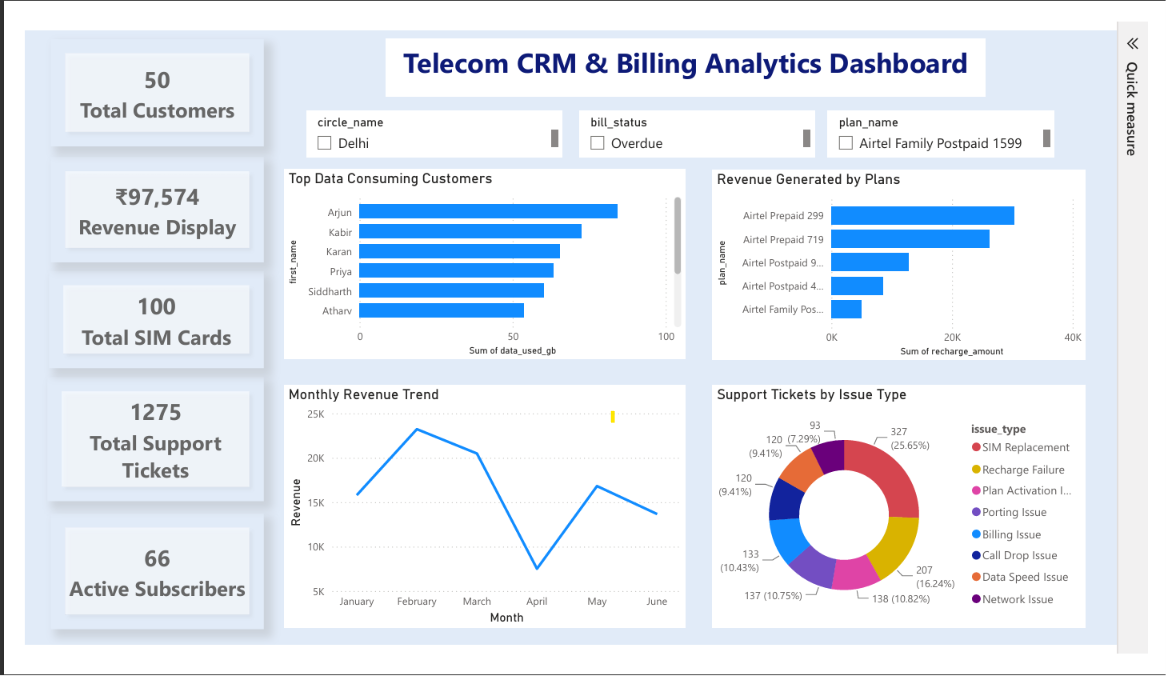

The dashboard page shown, as its layout file describes it:
{"tool":"powerbi","page":{"name":"Page 1","canvas":[1280,720],"ordinal":0},"visuals":[{"type":"textbox","box":[422.5,10,703.8,67.5],"z":0},{"type":"lineChart","title":"Monthly Revenue Trend","fields":{"Y":["Sum(bills.total_amount)"],"Category":["bills.bill_generation_date.Variation.Date Hierarchy.Month"]},"box":[304.3,415.7,470,285.7],"z":1000},{"type":"clusteredBarChart","title":"Revenue Generated by Plans","fields":{"Category":["plans.plan_name"],"Y":["Sum(recharge_history.recharge_amount)"]},"box":[805.7,164.3,437.1,222.9],"z":2000},{"type":"barChart","title":"Top Data Consuming Customers","fields":{"Category":["customers.first_name"],"Y":["Sum(usage_records.data_used_gb)"]},"box":[304.3,162.9,470,222.9],"z":3000},{"type":"donutChart","title":"Support Tickets by Issue Type","fields":{"Category":["support_tickets.issue_type"],"Y":["Sum(support_tickets.ticket_id)"]},"box":[805.7,415.7,437.1,285.7],"z":4000},{"type":"slicer","fields":{"Values":["circles.circle_name"]},"box":[330,94.3,300,54.3],"z":5000},{"type":"slicer","fields":{"Values":["plans.plan_name"]},"box":[941.4,94.3,265.7,54.3],"z":6000},{"type":"slicer","fields":{"Values":["bills.bill_status"]},"box":[650,94.3,275.7,54.3],"z":7000},{"type":"cardVisual","fields":{"Data":["CountNonNull(customers.customer_id)"]},"box":[30,10,250,126],"z":8000},{"type":"cardVisual","fields":{"Data":["bills.Revenue Display"]},"box":[30,148,250,124],"z":9000},{"type":"cardVisual","fields":{"Data":["CountNonNull(bills.sim_id)"]},"box":[28,282,252,114],"z":10000},{"type":"cardVisual","fields":{"Data":["Sum(support_tickets.ticket_id)"]},"box":[26,406,254,146],"z":11000},{"type":"cardVisual","fields":{"Data":["bills.Active Subscribers"]},"box":[30,566,250,136],"z":12000}]}

Visuals, with their boxes on the page's 1280x720 design canvas (x1, y1, x2, y2). These are canvas units, not pixel positions in the 1166x676 screenshot, which may show the page scaled, cropped or inside an application window:
textbox: rect(422, 10, 1126, 78)
"Monthly Revenue Trend" lineChart: rect(304, 416, 774, 701)
"Revenue Generated by Plans" clusteredBarChart: rect(806, 164, 1243, 387)
"Top Data Consuming Customers" barChart: rect(304, 163, 774, 386)
"Support Tickets by Issue Type" donutChart: rect(806, 416, 1243, 701)
slicer - circles.circle_name: rect(330, 94, 630, 149)
slicer - plans.plan_name: rect(941, 94, 1207, 149)
slicer - bills.bill_status: rect(650, 94, 926, 149)
cardVisual - CountNonNull(customers.customer_id): rect(30, 10, 280, 136)
cardVisual - bills.Revenue Display: rect(30, 148, 280, 272)
cardVisual - CountNonNull(bills.sim_id): rect(28, 282, 280, 396)
cardVisual - Sum(support_tickets.ticket_id): rect(26, 406, 280, 552)
cardVisual - bills.Active Subscribers: rect(30, 566, 280, 702)
